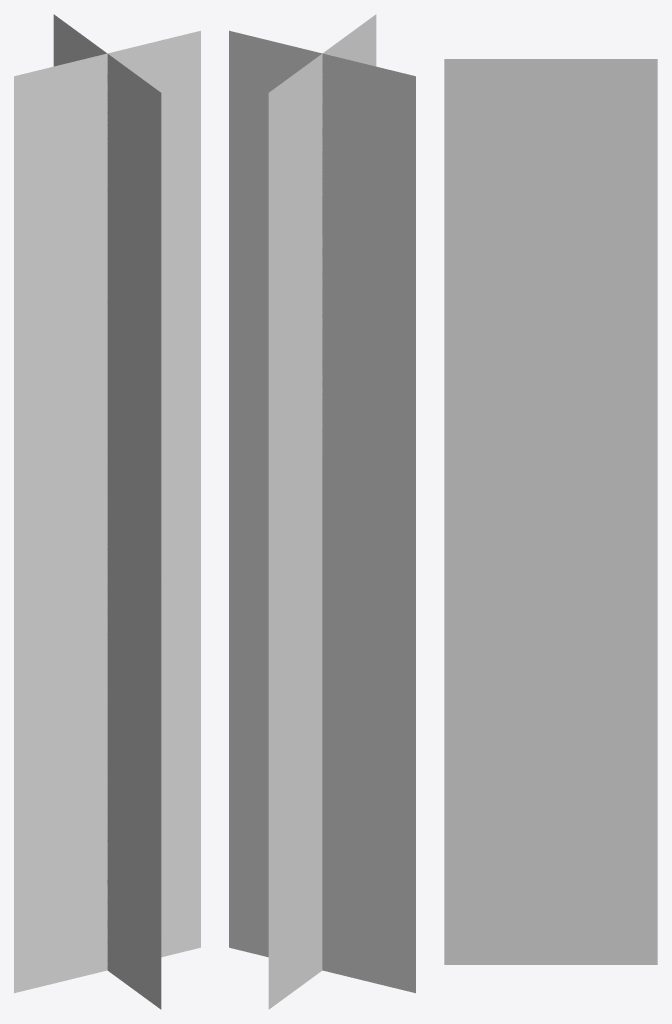
File: shizimianp_001.FBX
The picture shows the model from 3 angles, left to right: view 1: azimuth 30°, elevation 25°; view 2: azimuth 150°, elevation 25°; view 3: azimuth 270°, elevation 25°; orthographic projection.
Parts seen in each view (by area): view 1: Plane002; view 2: Plane002; view 3: Plane002.
Boxes of the visible parts, bbox=[...] form: Plane002: bbox=[14, 14, 200, 1009]; Plane002: bbox=[229, 14, 415, 1009]; Plane002: bbox=[444, 59, 657, 964].
Size of the model in its own units: 7.8 by 36.59 by 7.8.
1 material, 1 textured.
